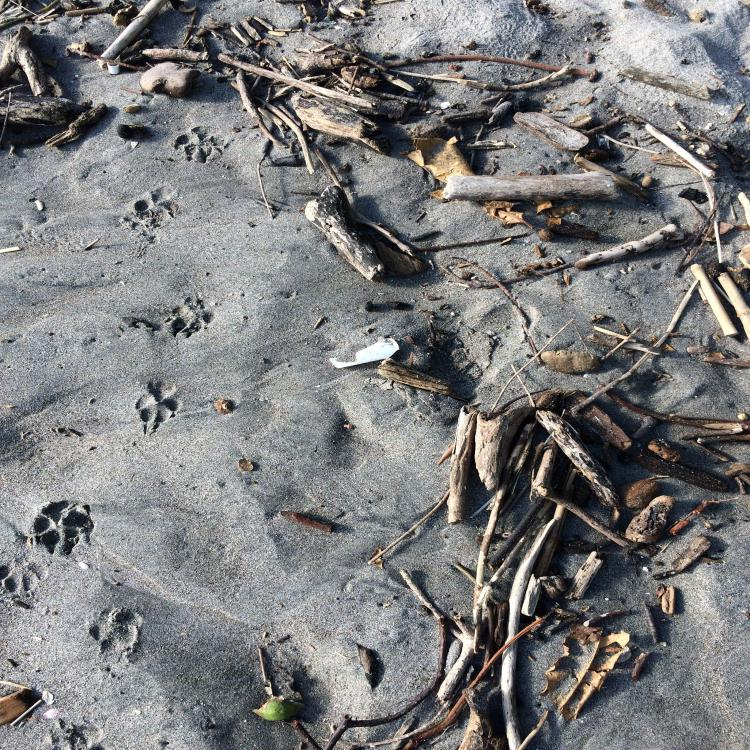Other plastic wrapper: (330, 338, 399, 368)
Plastic bottle cap: (107, 62, 120, 74)
